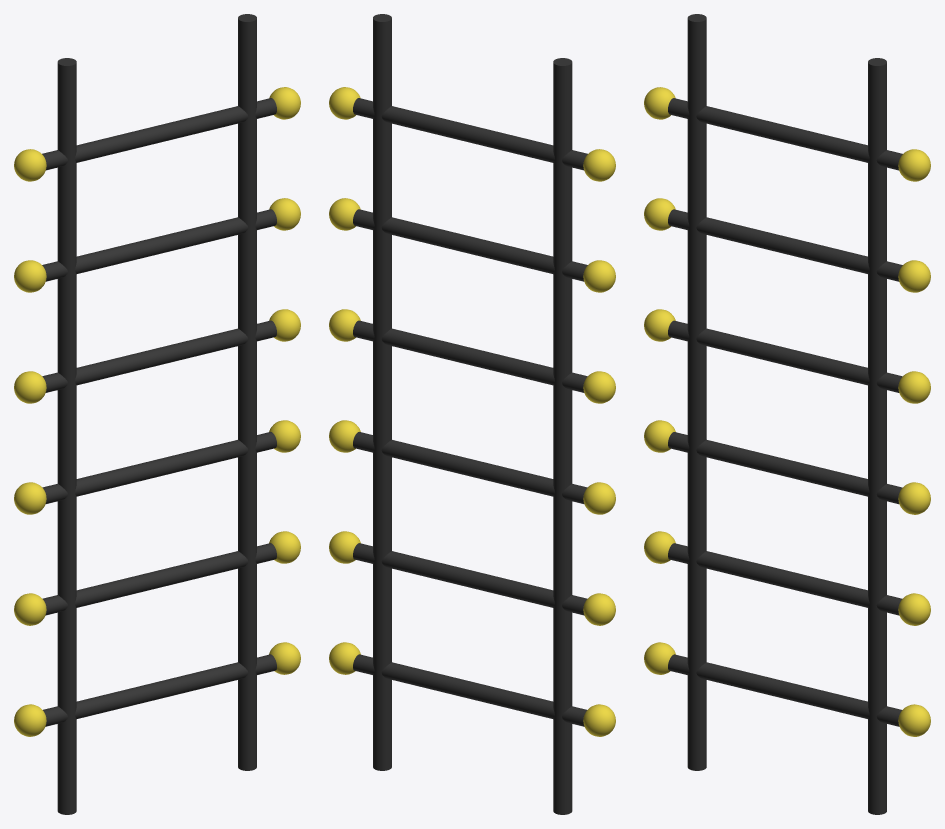
Rendered from Ladder.fbx.
3 renders of one model, left to right at view 1: azimuth 30°, elevation 25°; view 2: azimuth 150°, elevation 25°; view 3: azimuth 330°, elevation 25°, orthographic.
Visible parts, largest first — view 1: pCylinder24, pCylinder27, pCylinder28, pCylinder29, pCylinder26, pCylinder30, pCylinder32, pCylinder31, pSphere4, pSphere3, pSphere2, pSphere6 (+8 smaller); view 2: pCylinder24, pCylinder27, pCylinder28, pCylinder29, pCylinder26, pCylinder30, pCylinder32, pCylinder31, pSphere4, pSphere3, pSphere2, pSphere6 (+8 smaller); view 3: pCylinder24, pCylinder27, pCylinder29, pCylinder28, pCylinder26, pCylinder30, pCylinder32, pCylinder31, pSphere8, pSphere9, pSphere12, pSphere7 (+8 smaller).
Part boxes in pixels (x1,y1,x2,y2): pCylinder24: (57, 58, 76, 814); pCylinder27: (238, 14, 256, 770); pCylinder28: (42, 209, 276, 281); pCylinder29: (42, 320, 276, 392); pCylinder26: (42, 98, 276, 170); pCylinder30: (42, 432, 276, 503); pCylinder32: (43, 654, 276, 726); pCylinder31: (42, 543, 276, 615); pSphere4: (14, 482, 46, 514); pSphere3: (14, 371, 46, 403); pSphere2: (14, 260, 46, 292); pSphere6: (14, 704, 46, 736); pCylinder24: (553, 58, 572, 814); pCylinder27: (373, 14, 391, 770); pCylinder28: (353, 209, 587, 281); pCylinder29: (353, 320, 587, 392); pCylinder26: (353, 98, 587, 170); pCylinder30: (353, 432, 587, 503); pCylinder32: (353, 654, 586, 726); pCylinder31: (353, 543, 587, 615); pSphere4: (583, 482, 615, 514); pSphere3: (583, 371, 615, 403); pSphere2: (583, 260, 615, 292); pSphere6: (583, 704, 615, 736); pCylinder24: (687, 14, 706, 770); pCylinder27: (868, 58, 886, 814); pCylinder29: (668, 320, 902, 392); pCylinder28: (668, 209, 902, 281); pCylinder26: (668, 98, 902, 170); pCylinder30: (668, 432, 902, 504); pCylinder32: (668, 654, 901, 726); pCylinder31: (668, 543, 902, 615); pSphere8: (898, 260, 930, 292); pSphere9: (898, 371, 930, 403); pSphere12: (898, 704, 930, 736); pSphere7: (898, 149, 930, 181).
Bounding box in the file's own units: 10.2 × 25.82 × 1.02.
